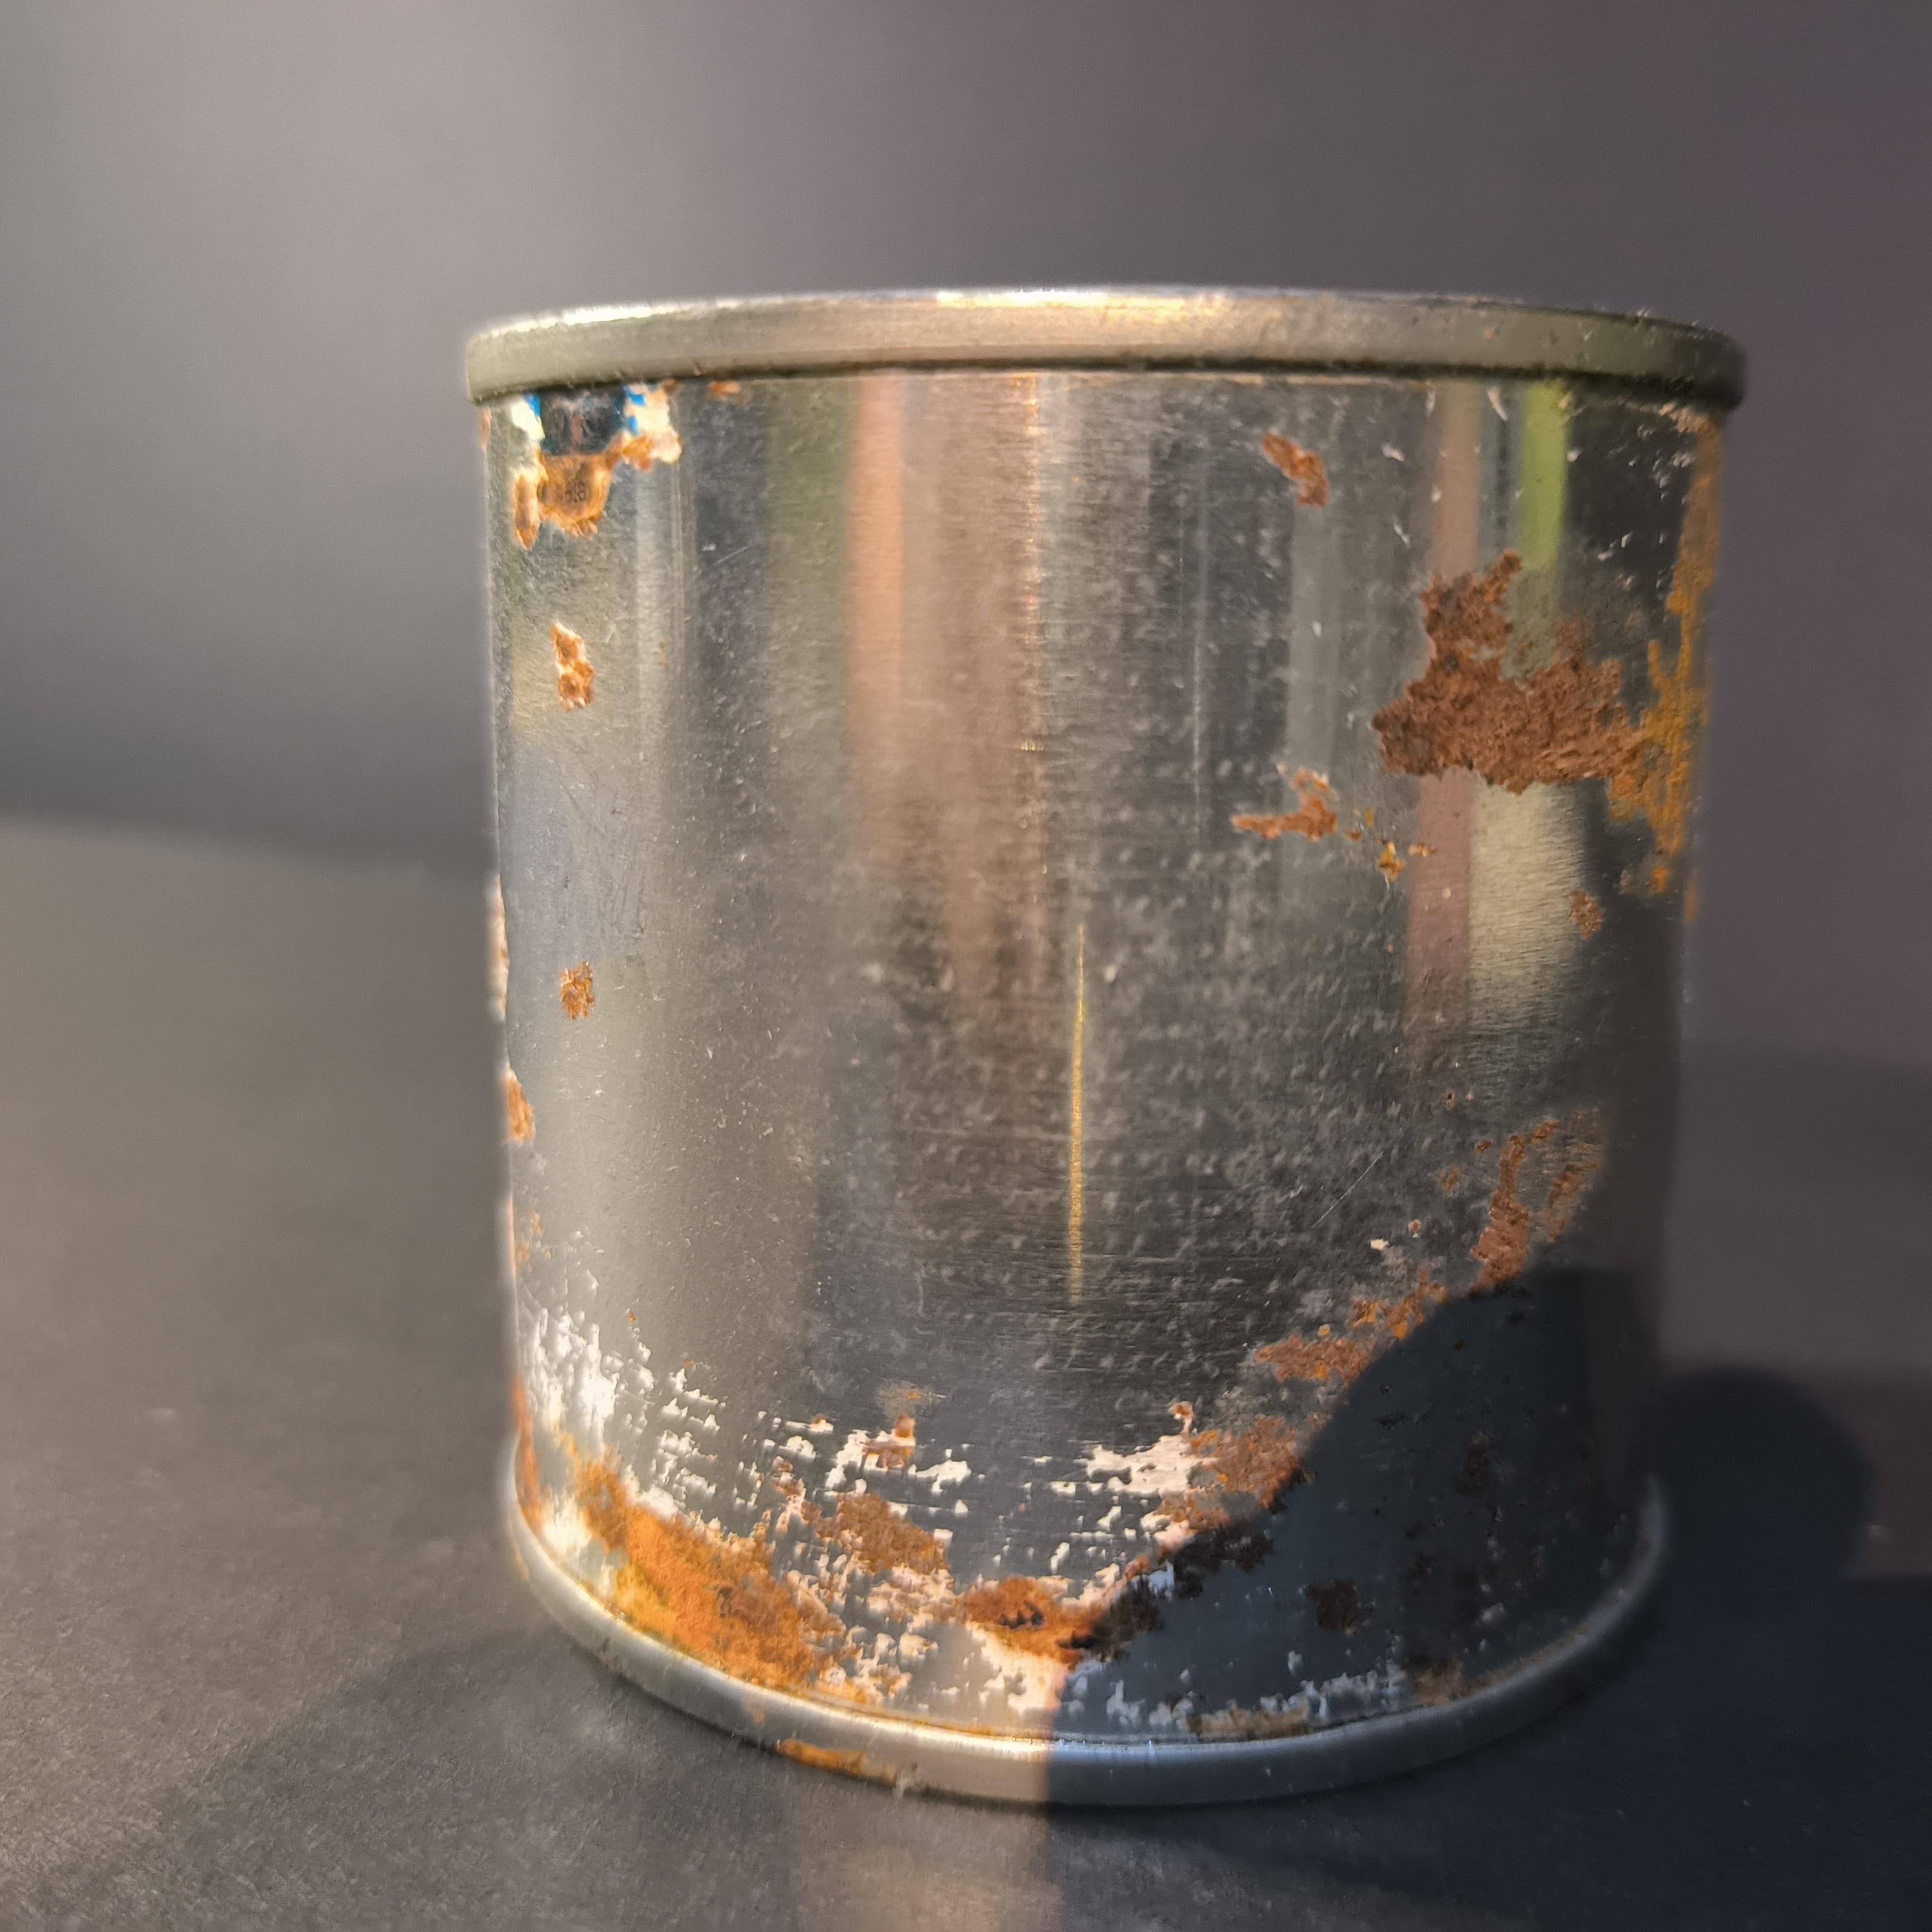Rusted: (442, 244, 1744, 1828)
